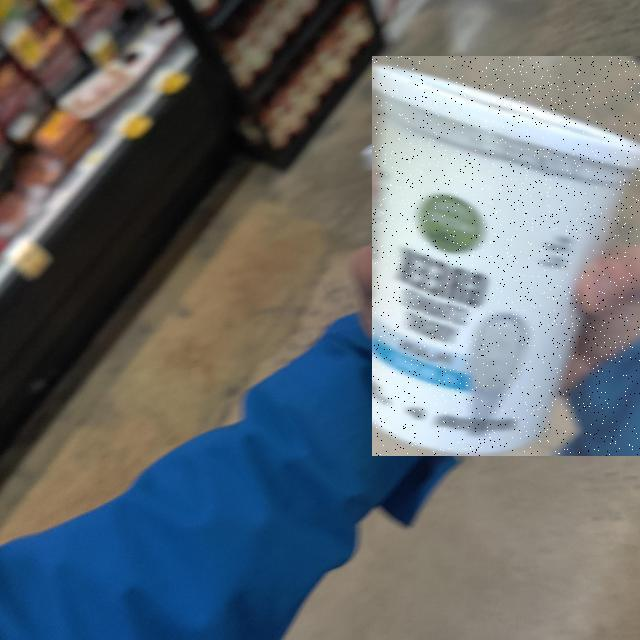Yoghurt: (372, 56, 640, 456)
